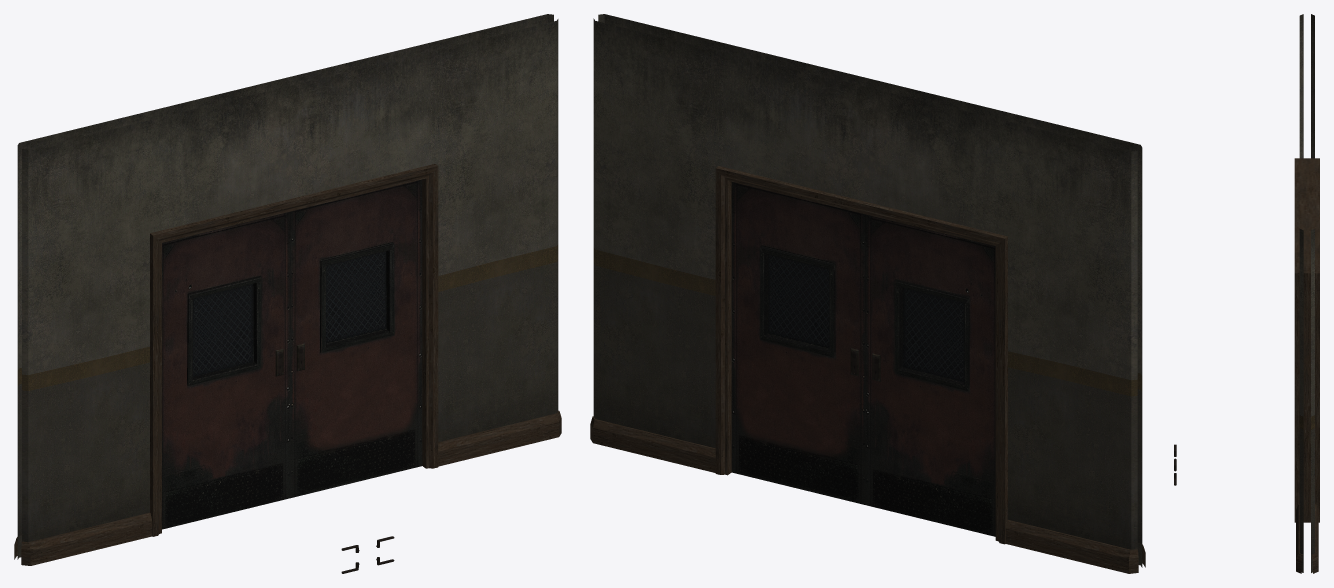
The model's file is doorway_2_wide.fbx.
The picture shows the model from 3 angles, left to right: view 1: azimuth 30°, elevation 25°; view 2: azimuth 150°, elevation 25°; view 3: azimuth 270°, elevation 25°; orthographic projection. The views are drawn at different scales.
Visible parts, largest first — view 1: doorway_2_wide, double_door_4_piece_2, double_door_4_piece_1; view 2: doorway_2_wide, double_door_4_piece_2, double_door_4_piece_1; view 3: doorway_2_wide.
Part boxes in pixels (x1,y1,x2,y2): doorway_2_wide: [14, 14, 561, 565]; double_door_4_piece_2: [290, 179, 422, 498]; double_door_4_piece_1: [162, 212, 290, 529]; doorway_2_wide: [590, 14, 1145, 573]; double_door_4_piece_2: [731, 182, 865, 504]; double_door_4_piece_1: [865, 214, 995, 536]; doorway_2_wide: [1294, 14, 1319, 573].
Bounding box in the file's own units: 4.09 × 3.09 × 1.16.
